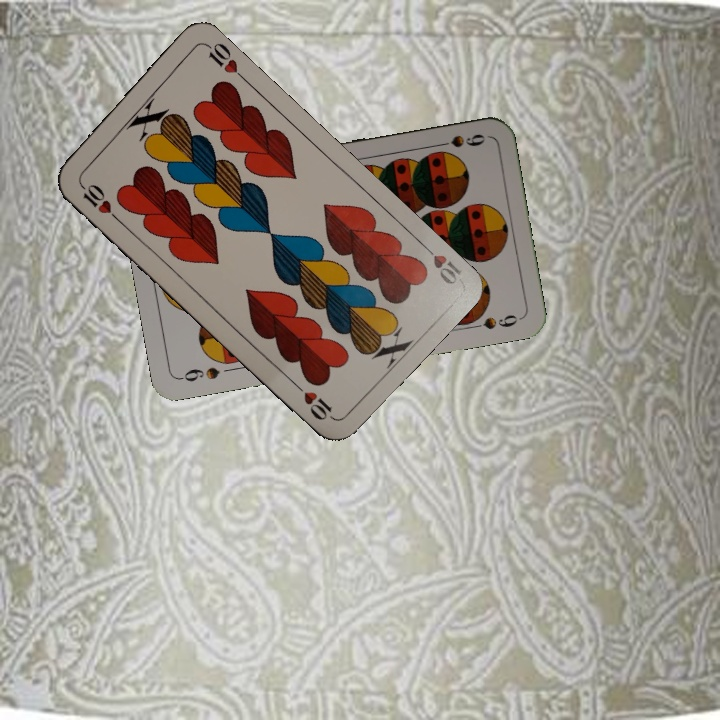H10: (416, 238, 465, 288), (75, 178, 122, 224)
S9: (429, 129, 488, 150), (176, 363, 223, 384)
